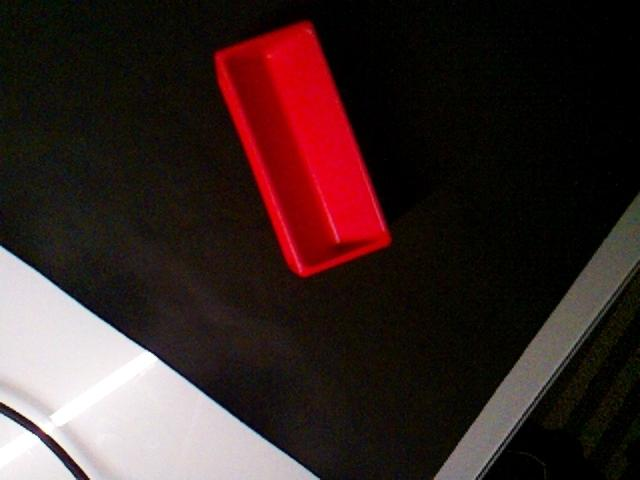red: (212, 18, 394, 279)
